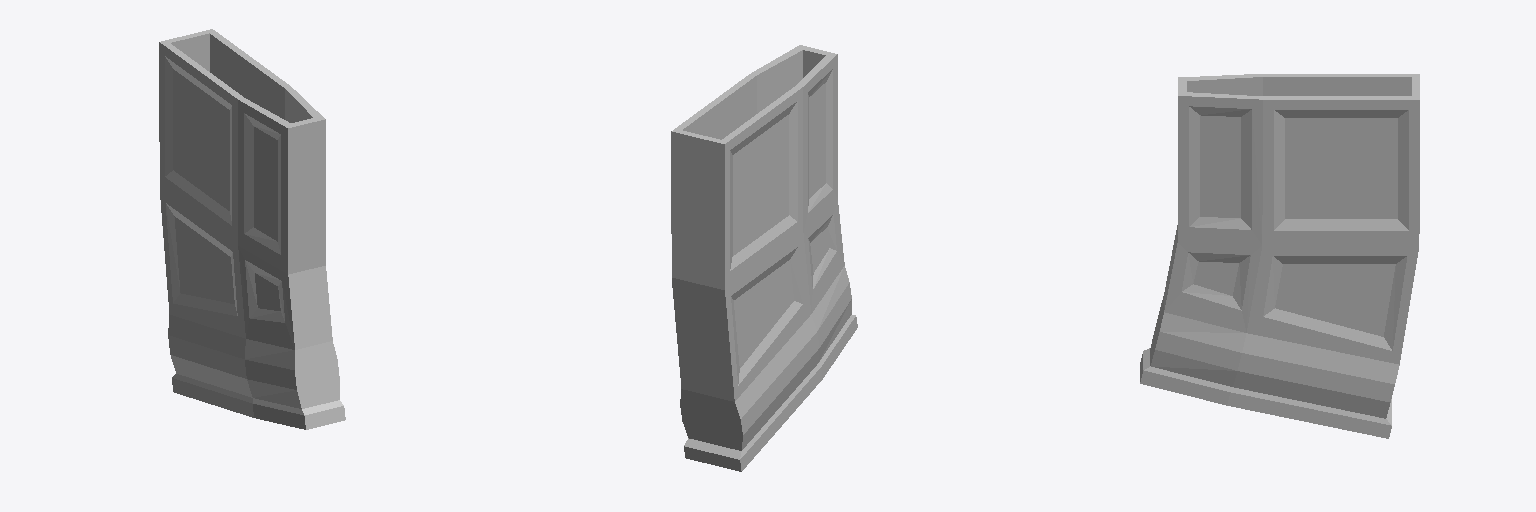
The model's file is Mag3.obj.
3 views of the same model, side by side, from view 1: azimuth 30°, elevation 25°; view 2: azimuth 150°, elevation 25°; view 3: azimuth 270°, elevation 25° (orthographic).
Visible parts, largest first — view 1: Cube.006; view 2: Cube.006; view 3: Cube.006.
Boxes of the visible parts, box(x1,y1,x2,y2) form: Cube.006: box(159, 29, 345, 429); Cube.006: box(671, 45, 857, 471); Cube.006: box(1140, 74, 1419, 438).
Size of the model in its own units: 0.0978 by 0.5207 by 0.3902.